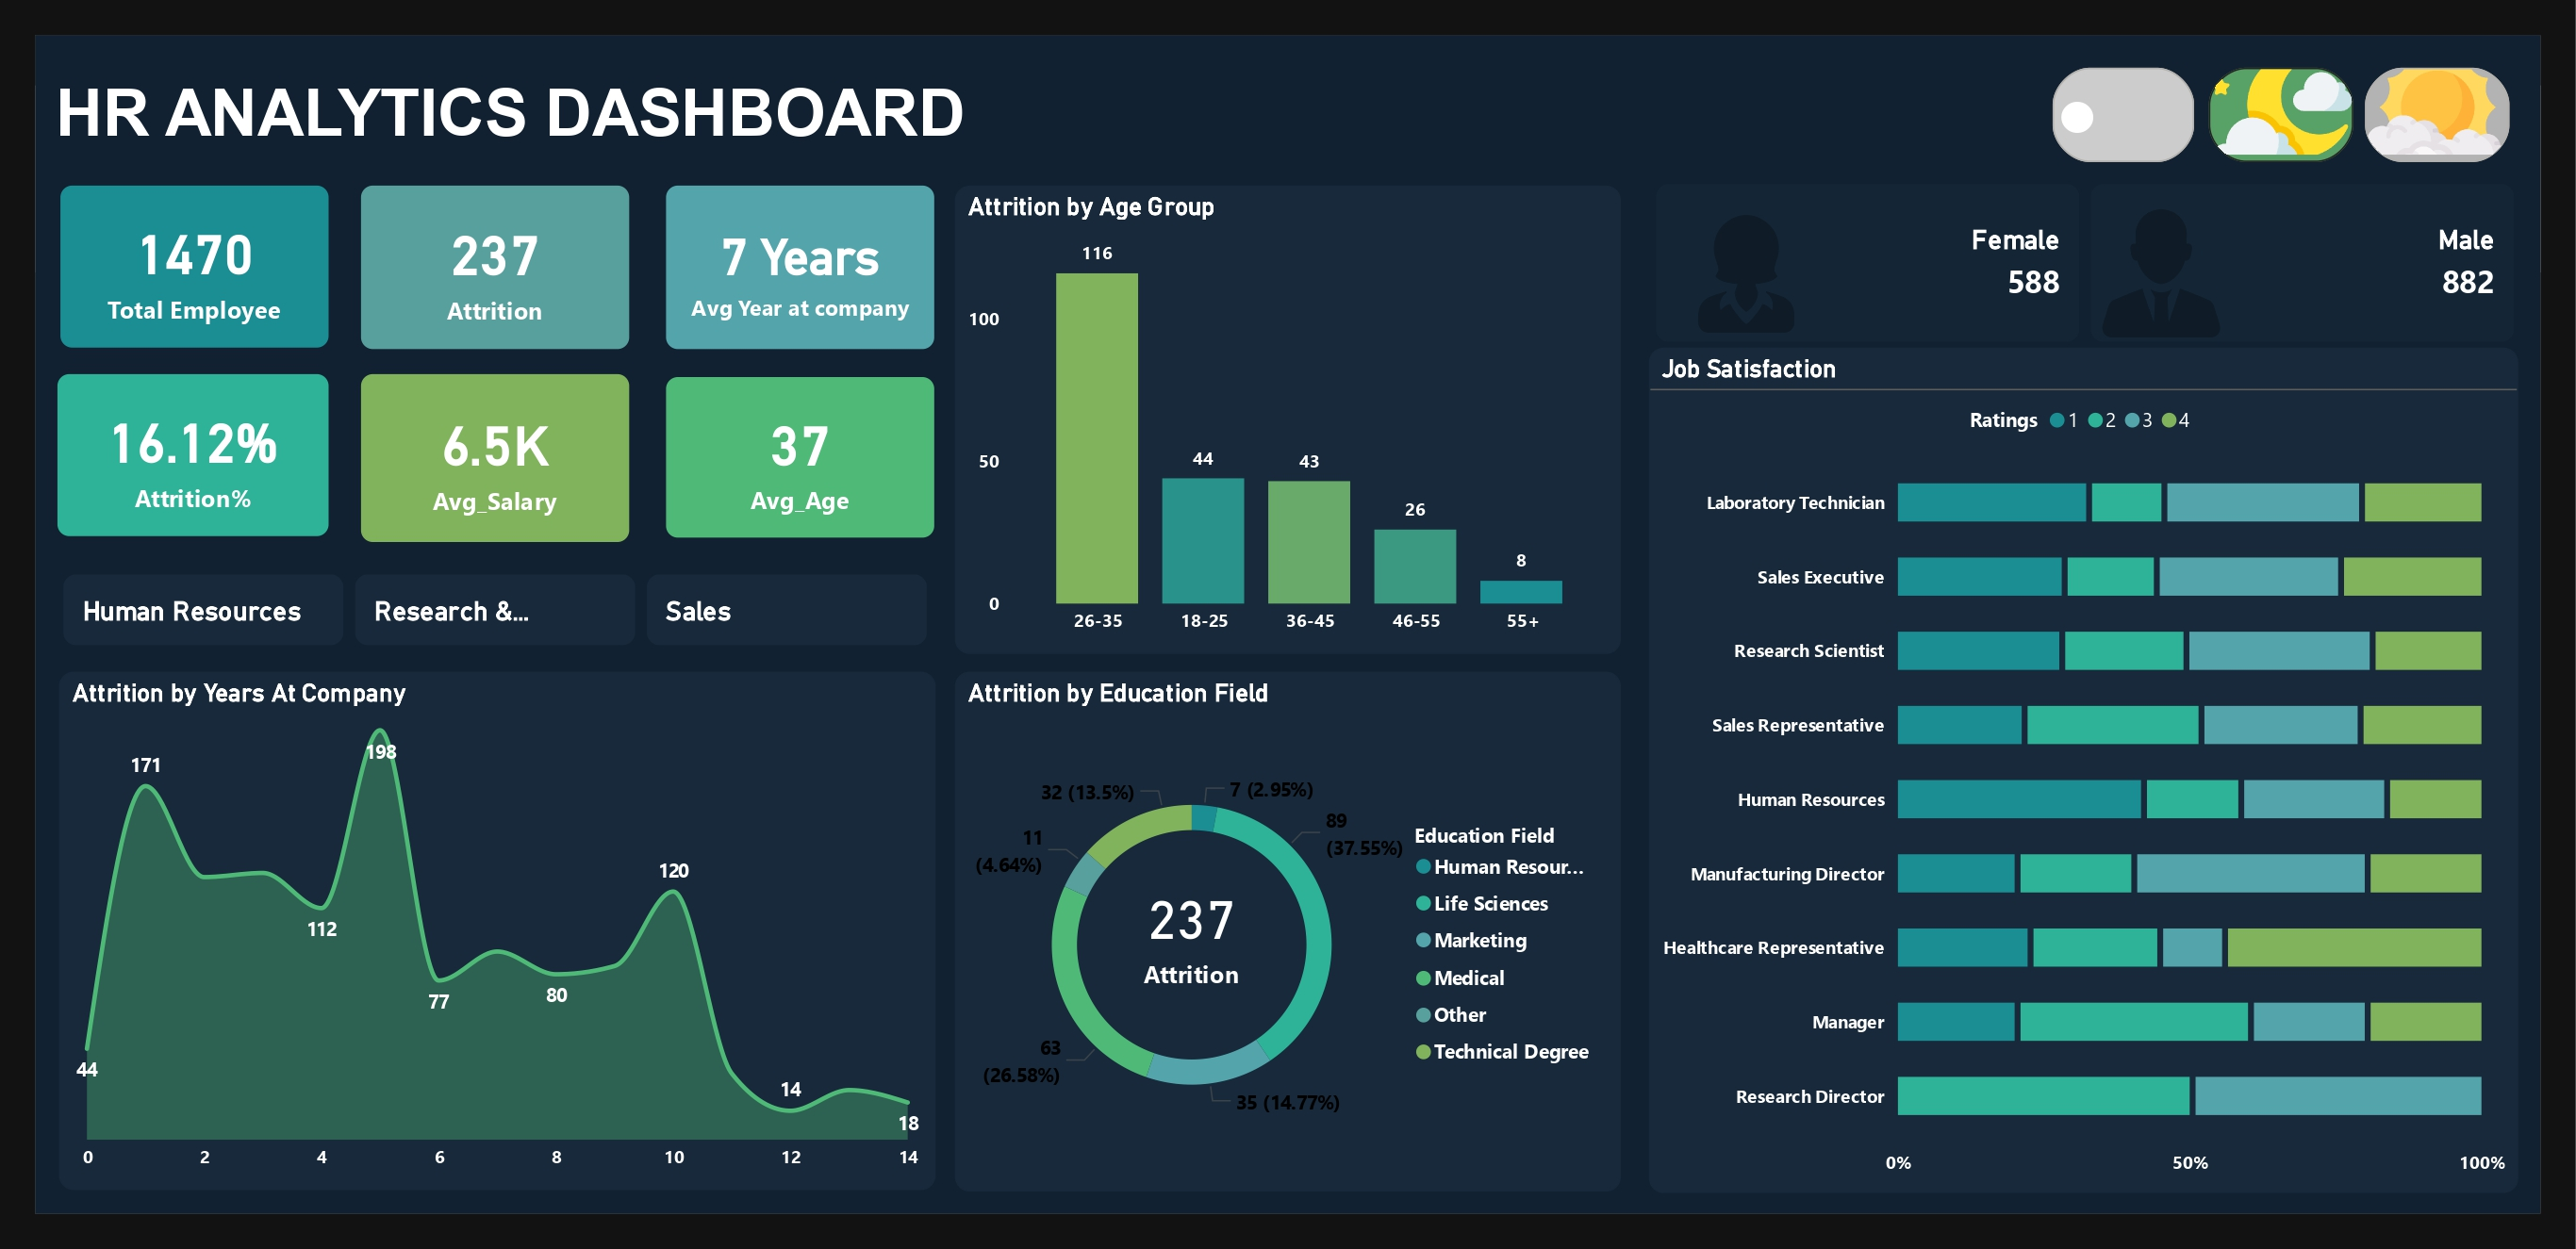

The page's visual inventory and layout, read from the dashboard file:
{"tool":"powerbi","page":{"name":"HR analytics dash","canvas":[1700,800],"ordinal":0},"visuals":[{"type":"shape","box":[0,0,1700.3,800],"z":0},{"type":"image","box":[1393,112.7,98.8,97.3],"z":1000},{"type":"image","box":[1113.5,117.4,94.2,89.6],"z":2000},{"type":"advancedSlicerVisual","fields":{"Values":["HR_Analytics.Gender"]},"box":[1095,96,593,117],"z":3000},{"type":"card","fields":{"Values":["HR_Analytics.Employee_Count"]},"box":[17,101.9,182.2,109.6],"z":4000},{"type":"card","fields":{"Values":["HR_Analytics.Avg_Years_text"]},"box":[427.8,101.9,182.2,111.2],"z":5000},{"type":"card","fields":{"Values":["HR_Analytics.Attrition%"]},"box":[15.4,230.1,183.8,109.6],"z":6000},{"type":"card","fields":{"Values":["HR_Analytics.Avg_Salary"]},"box":[220.8,230.1,182.2,114.3],"z":7000},{"type":"card","fields":{"Values":["HR_Analytics.Avg_Age"]},"box":[427.8,231.7,182.2,109.6],"z":8000},{"type":"card","fields":{"Values":["HR_Analytics.Employee_Attrition"]},"box":[220.8,101.9,182.2,111.2],"z":9000},{"type":"donutChart","title":"Attrition by Education Field","fields":{"Y":["HR_Analytics.Employee_Attrition"],"Series":["HR_Analytics.EducationField"]},"box":[623.9,432.4,452.5,352.1],"z":10000},{"type":"hundredPercentStackedBarChart","title":"Job Satisfaction","fields":{"Y":["HR_Analytics.Employee_Attrition"],"Category":["HR_Analytics.JobRole"],"Series":["HR_Analytics.JobSatisfaction"]},"box":[1095,212,590,574],"z":11000},{"type":"advancedSlicerVisual","fields":{"Values":["HR_Analytics.Department"]},"box":[13.9,361.4,596.1,58.7],"z":12000},{"type":"card","fields":{"Values":["HR_Analytics.Employee_Attrition"]},"box":[681.1,549.8,206.9,117.4],"z":13000},{"type":"clusteredColumnChart","title":"Attrition by Age Group","fields":{"Category":["HR_Analytics.AgeGroup"],"Y":["HR_Analytics.Employee_Attrition"]},"box":[624,102,452,318],"z":14000},{"type":"areaChart","title":"Attrition by Years At Company","fields":{"Y":["CountNonNull(HR_Analytics.Attrition)"],"Category":["HR_Analytics.YearsAtCompany"]},"box":[16.4,431.9,594.1,351.7],"z":15000},{"type":"advancedSlicerVisual","fields":{"Values":["Dark_Mode.Label"]},"box":[1470,17,215,74],"z":16000},{"type":"shape","box":[13.9,27.8,827.8,52.5],"z":17000},{"type":"advancedSlicerVisual","fields":{"Values":["DarkMode_AutoSet.MODE"]},"box":[1364,17,106,74],"z":18000}]}

Visuals, with their boxes on the page's 1700x800 design canvas (x1, y1, x2, y2). These are canvas units, not pixel positions in the 2576x1249 screenshot, which may show the page scaled, cropped or inside an application window:
shape: (left=0, top=0, right=1700, bottom=800)
image: (left=1393, top=113, right=1492, bottom=210)
image: (left=1114, top=117, right=1208, bottom=207)
advancedSlicerVisual - HR_Analytics.Gender: (left=1095, top=96, right=1688, bottom=213)
card - HR_Analytics.Employee_Count: (left=17, top=102, right=199, bottom=212)
card - HR_Analytics.Avg_Years_text: (left=428, top=102, right=610, bottom=213)
card - HR_Analytics.Attrition%: (left=15, top=230, right=199, bottom=340)
card - HR_Analytics.Avg_Salary: (left=221, top=230, right=403, bottom=344)
card - HR_Analytics.Avg_Age: (left=428, top=232, right=610, bottom=341)
card - HR_Analytics.Employee_Attrition: (left=221, top=102, right=403, bottom=213)
"Attrition by Education Field" donutChart: (left=624, top=432, right=1076, bottom=784)
"Job Satisfaction" hundredPercentStackedBarChart: (left=1095, top=212, right=1685, bottom=786)
advancedSlicerVisual - HR_Analytics.Department: (left=14, top=361, right=610, bottom=420)
card - HR_Analytics.Employee_Attrition: (left=681, top=550, right=888, bottom=667)
"Attrition by Age Group" clusteredColumnChart: (left=624, top=102, right=1076, bottom=420)
"Attrition by Years At Company" areaChart: (left=16, top=432, right=610, bottom=784)
advancedSlicerVisual - Dark_Mode.Label: (left=1470, top=17, right=1685, bottom=91)
shape: (left=14, top=28, right=842, bottom=80)
advancedSlicerVisual - DarkMode_AutoSet.MODE: (left=1364, top=17, right=1470, bottom=91)
